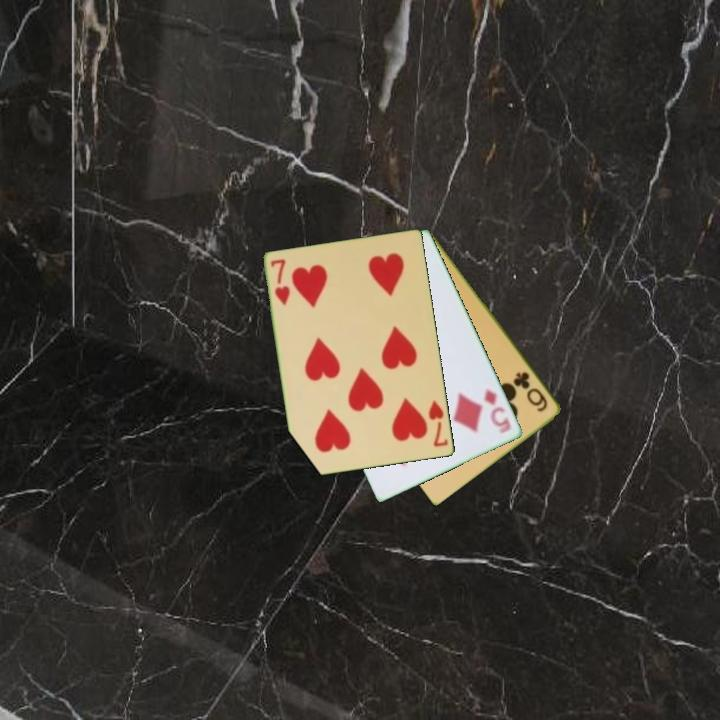5d: (481, 385, 514, 437)
6c: (510, 368, 551, 415)
7h: (425, 396, 451, 450), (268, 256, 293, 309)
